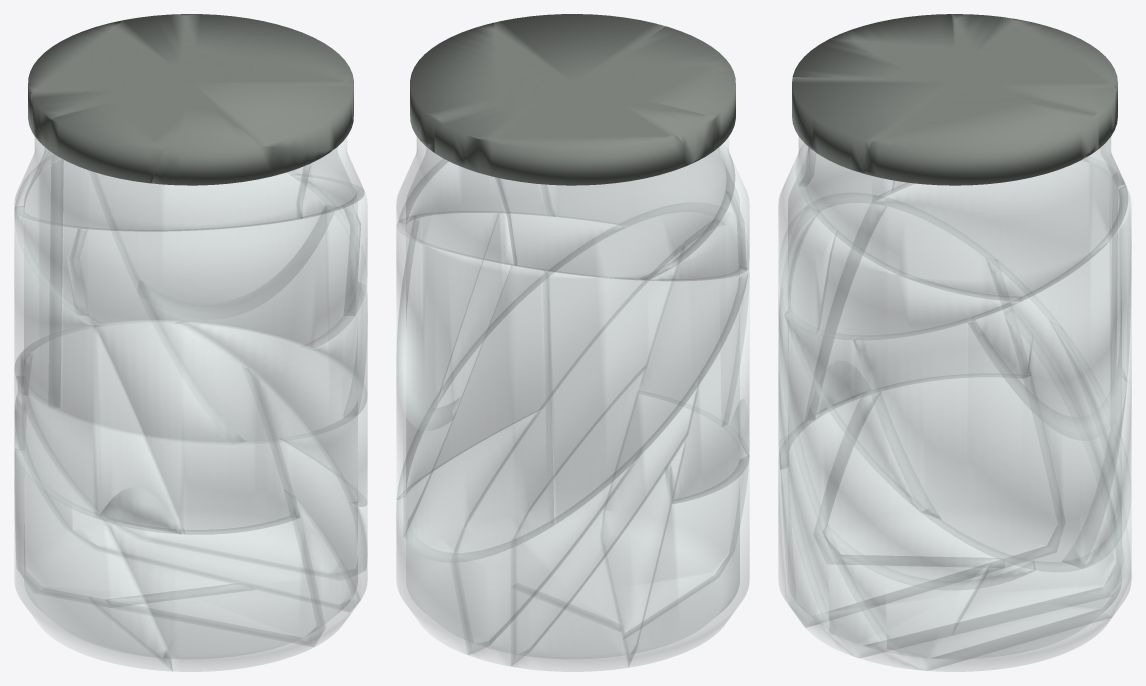
The model's file is fragments.glb.
The picture shows the model from 3 angles, left to right: view 1: azimuth 30°, elevation 25°; view 2: azimuth 150°, elevation 25°; view 3: azimuth 270°, elevation 25°; orthographic projection.
Visible parts, largest first — view 1: fragment-023-clear, fragment-006-clear, fragment-021-clear, fragment-005-clear, fragment-009-clear, fragment-016-clear, fragment-022-clear, fragment-008-clear, fragment-003-clear, fragment-004-clear, fragment-011-clear, fragment-007-clear (+17 smaller); view 2: fragment-017-clear, fragment-003-clear, fragment-016-clear, fragment-007-clear, fragment-006-clear, fragment-005-clear, fragment-011-clear, fragment-009-clear, fragment-008-clear, fragment-004-clear, fragment-028-clear, fragment-026-clear (+16 smaller); view 3: fragment-009-clear, fragment-010-clear, fragment-004-clear, fragment-006-clear, fragment-022-clear, fragment-007-clear, fragment-017-clear, fragment-003-clear, fragment-008-clear, fragment-002-metal, fragment-005-clear, fragment-001-metal (+15 smaller).
Part boxes in pixels (x1,y1,x2,y2): fragment-023-clear: (69, 204, 360, 348); fragment-006-clear: (16, 376, 367, 573); fragment-021-clear: (93, 320, 299, 534); fragment-005-clear: (90, 514, 325, 671); fragment-009-clear: (139, 205, 367, 440); fragment-016-clear: (60, 160, 247, 441); fragment-022-clear: (15, 324, 185, 534); fragment-008-clear: (97, 173, 325, 302); fragment-003-clear: (14, 351, 367, 611); fragment-004-clear: (14, 449, 172, 670); fragment-011-clear: (14, 137, 310, 231); fragment-007-clear: (174, 321, 367, 506); fragment-017-clear: (542, 268, 748, 524); fragment-003-clear: (458, 248, 699, 666); fragment-016-clear: (404, 264, 553, 562); fragment-007-clear: (397, 212, 725, 499); fragment-006-clear: (396, 409, 644, 654); fragment-005-clear: (602, 394, 748, 632); fragment-011-clear: (495, 137, 734, 280); fragment-009-clear: (396, 213, 498, 537); fragment-008-clear: (396, 218, 511, 430); fragment-004-clear: (625, 456, 749, 667); fragment-028-clear: (511, 464, 673, 671); fragment-026-clear: (517, 367, 646, 625); fragment-009-clear: (853, 317, 1126, 571); fragment-010-clear: (799, 137, 1127, 301); fragment-004-clear: (828, 377, 1057, 557); fragment-006-clear: (822, 322, 1131, 671); fragment-022-clear: (815, 206, 1022, 419); fragment-007-clear: (778, 215, 1035, 590); fragment-017-clear: (873, 161, 1112, 403); fragment-003-clear: (778, 258, 1130, 670); fragment-008-clear: (967, 186, 1131, 440); fragment-002-metal: (863, 98, 1098, 185); fragment-005-clear: (778, 392, 999, 627); fragment-001-metal: (792, 77, 1035, 173).
Size of the model in its own units: 0.1043 by 0.17 by 0.1043.
2 materials, 2 textured.
